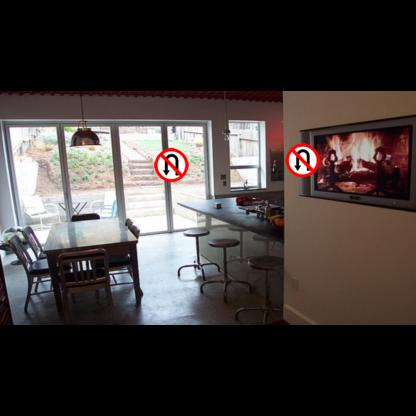R-5a: (285, 143, 320, 177), (154, 148, 188, 182)
